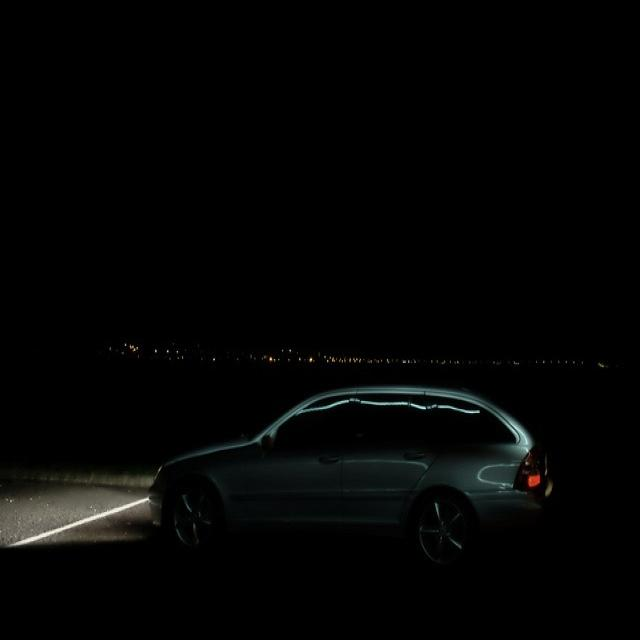Car: (83, 401, 558, 589)
